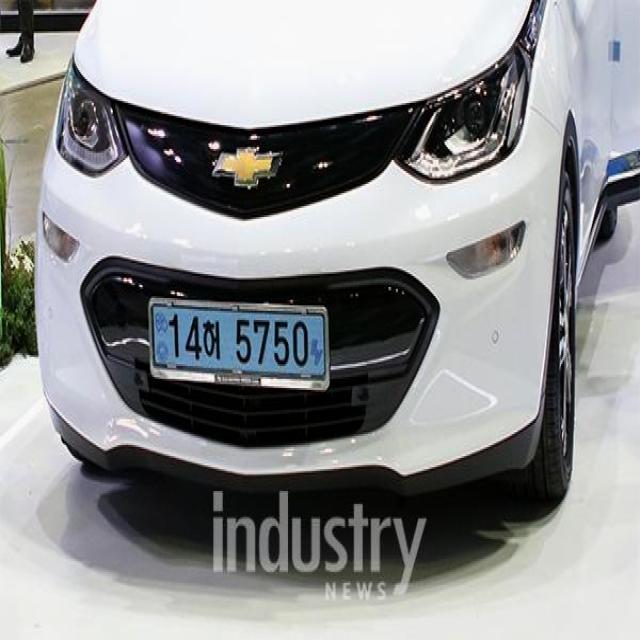EV_plate: (152, 296, 335, 397)
